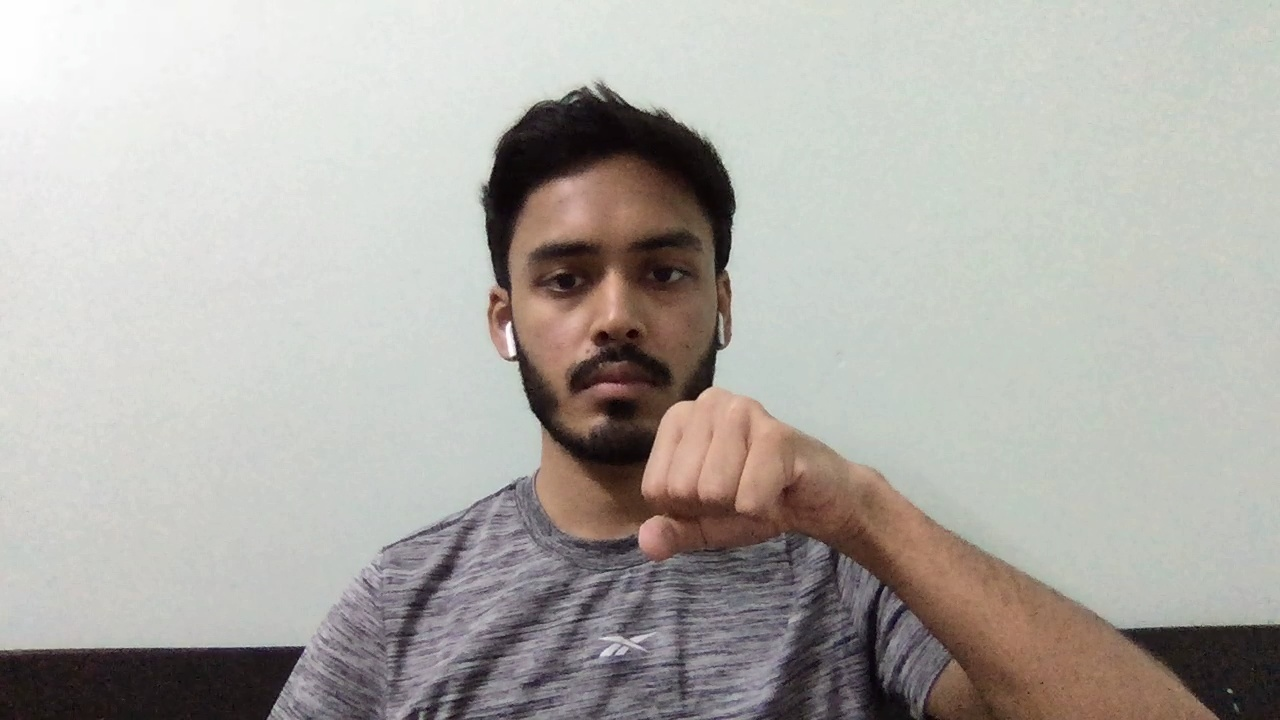Yes: (627, 375, 877, 577)
